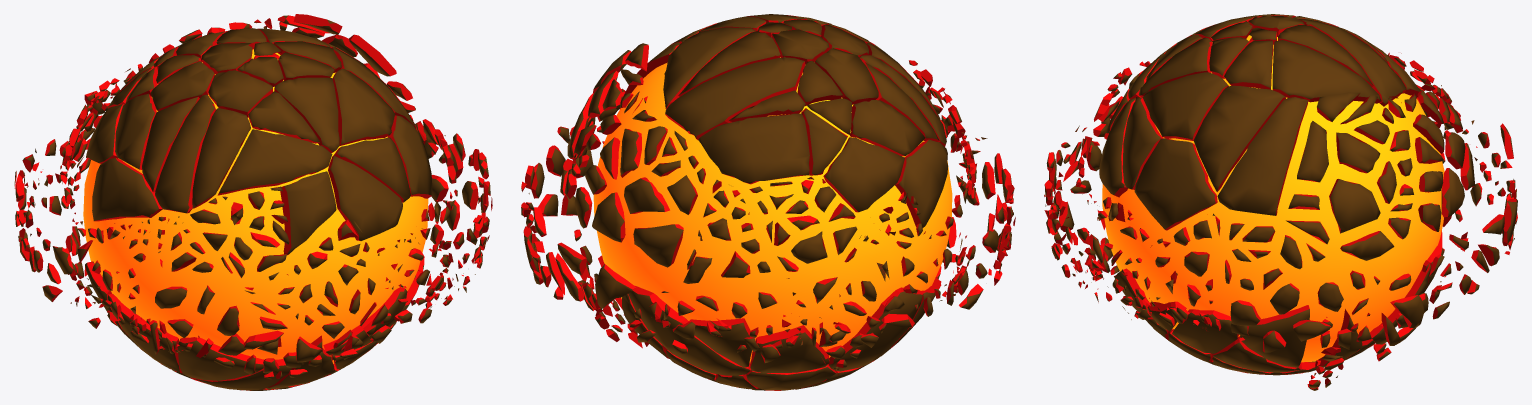
The model's file is scene-processed.glb.
3 renders of one model, left to right at view 1: azimuth 30°, elevation 25°; view 2: azimuth 150°, elevation 25°; view 3: azimuth 270°, elevation 25°, orthographic. The views are drawn at different scales.
Visible parts, largest first — view 1: COMBINE LP; view 2: COMBINE LP; view 3: COMBINE LP.
Part boxes in pixels (bbox=[...]): COMBINE LP: bbox=[14, 14, 492, 390]; COMBINE LP: bbox=[521, 14, 1015, 390]; COMBINE LP: bbox=[1044, 14, 1517, 390].
Size of the model in its own units: 261 by 199 by 261.
